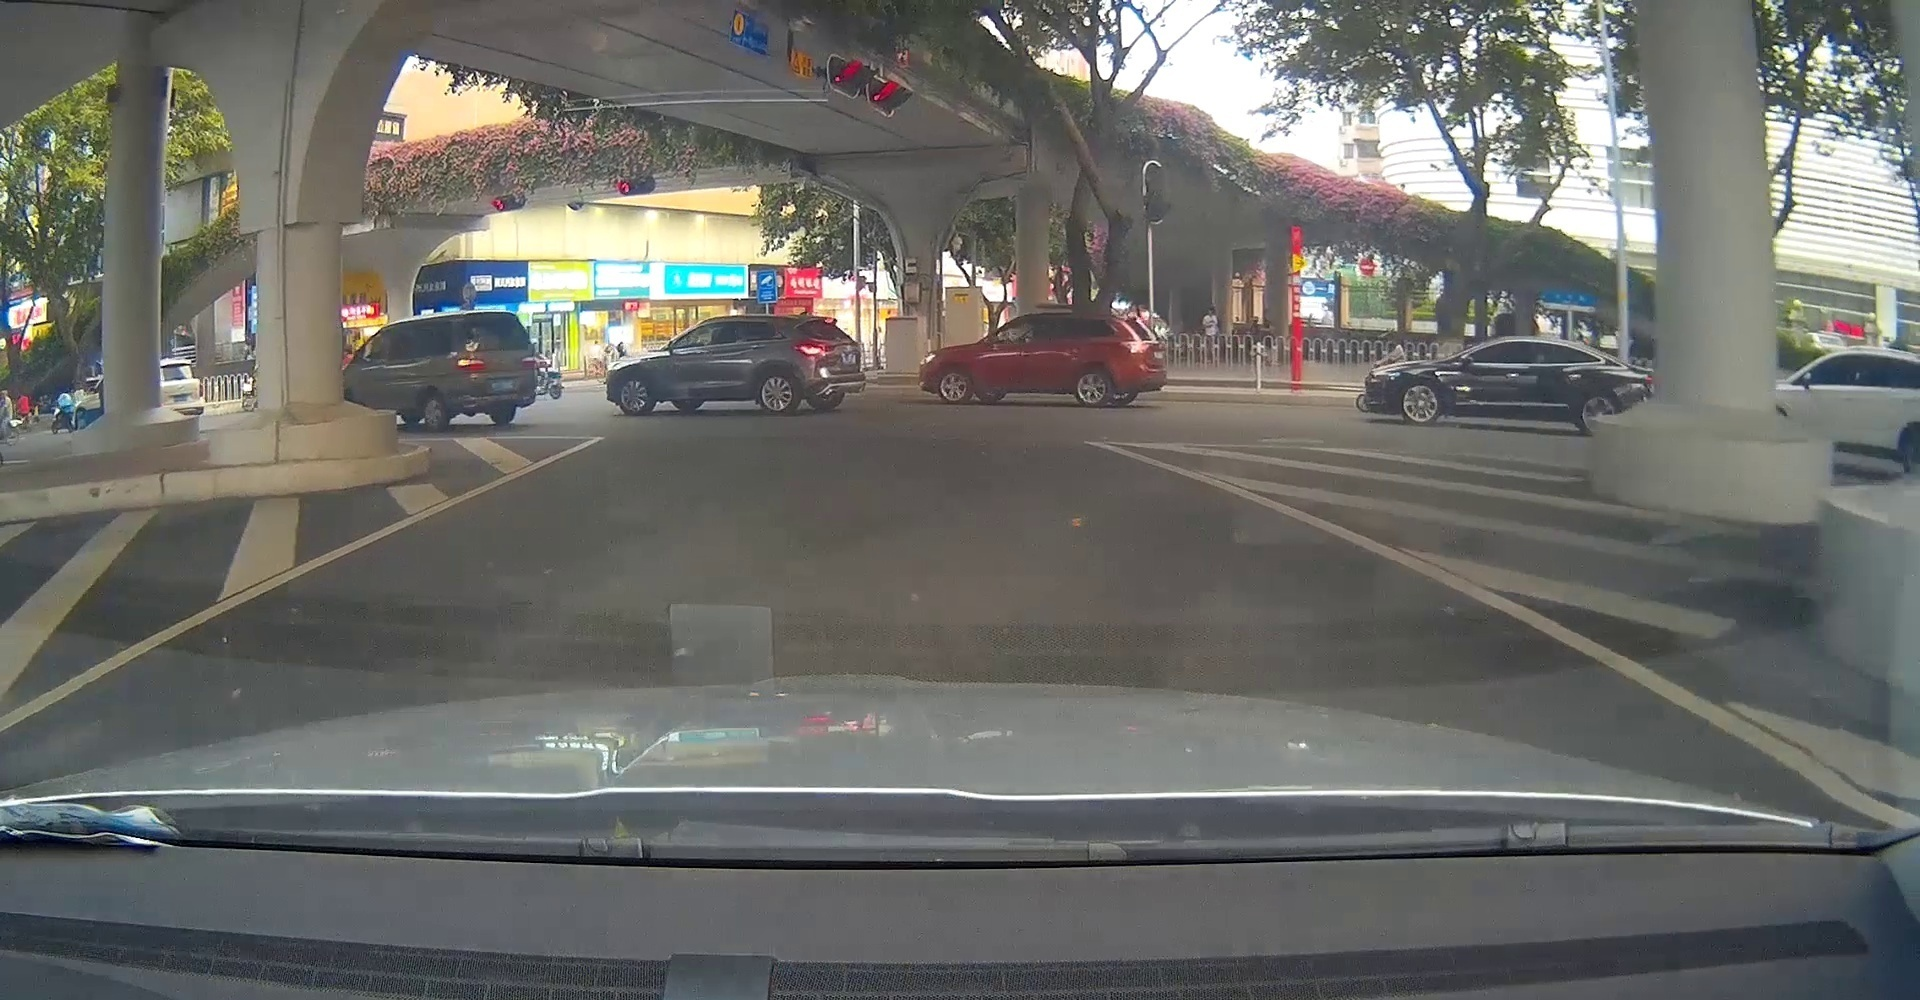L_light: (458, 358, 485, 369)
R_light: (521, 355, 537, 365)
T_light: (483, 312, 498, 319)
day-left: (458, 310, 538, 431)
